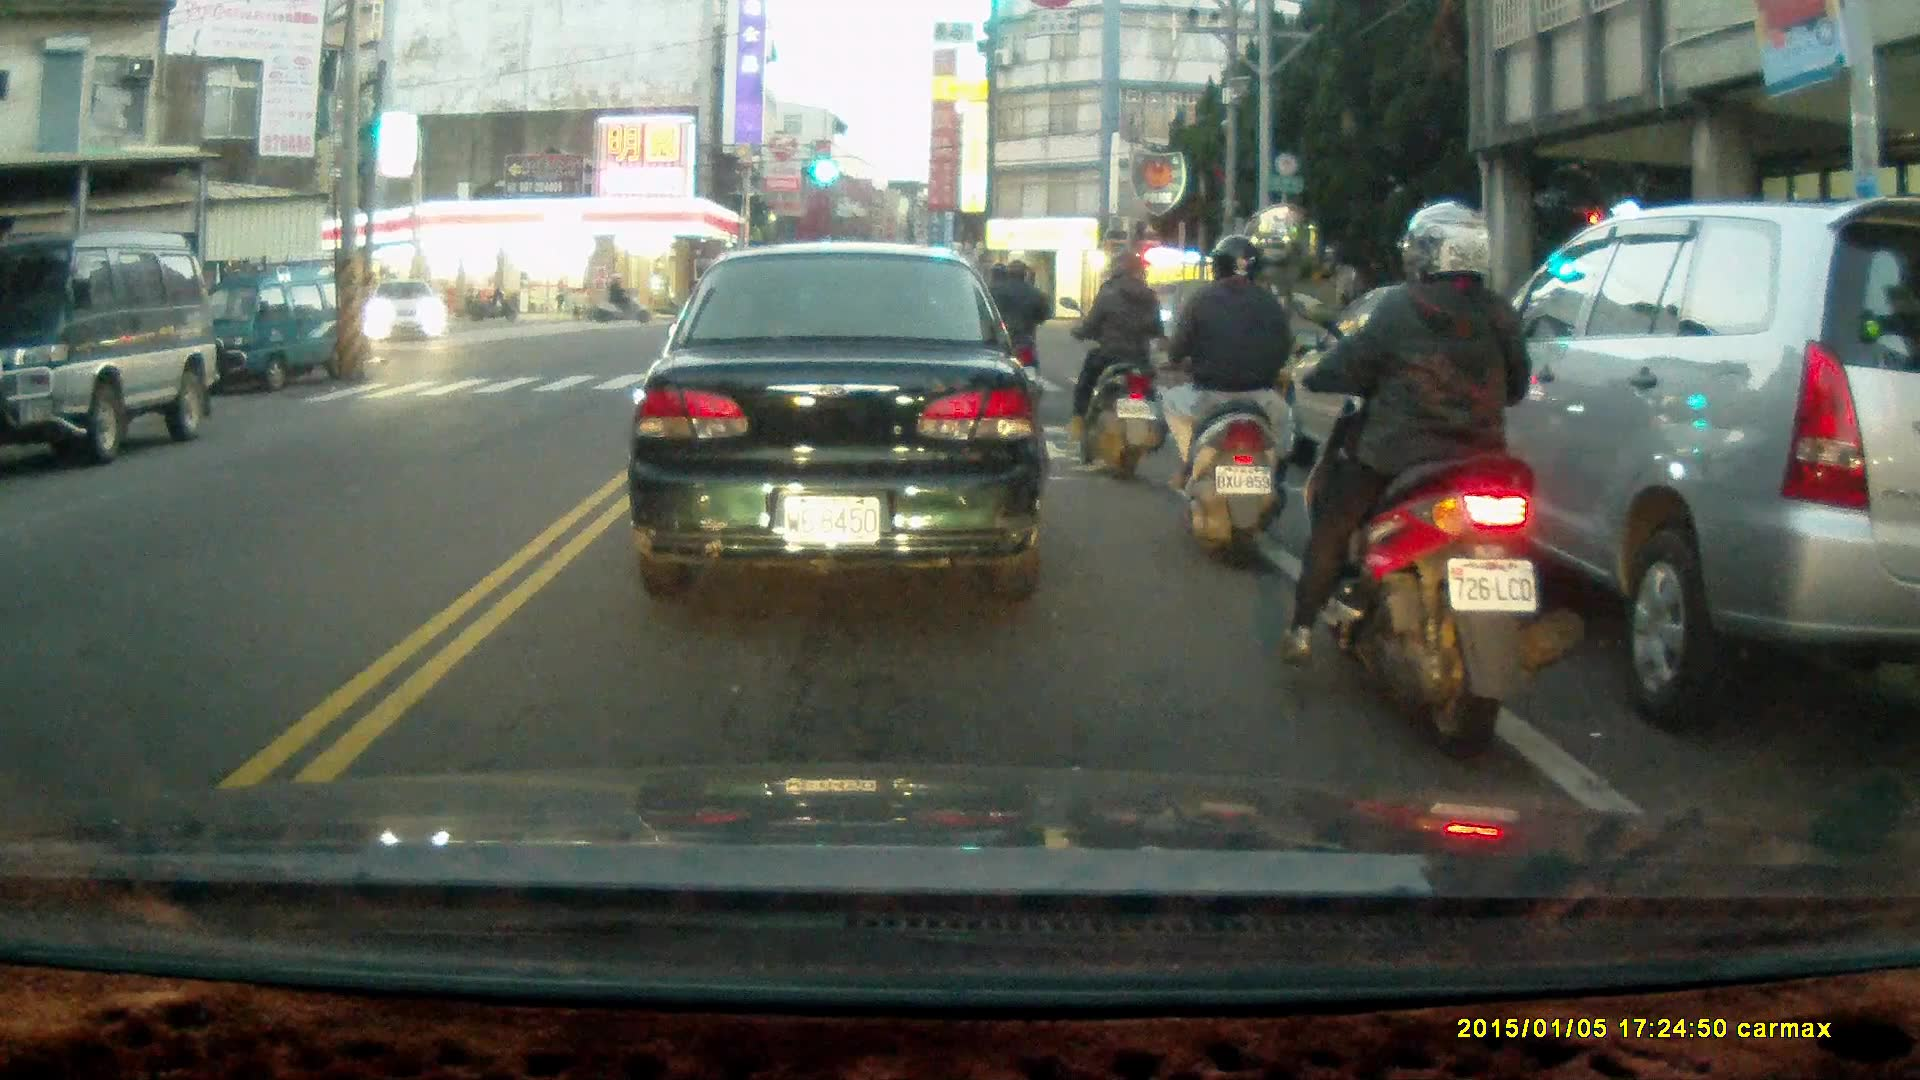rider: (1279, 201, 1561, 750), (1125, 225, 1290, 555), (1060, 257, 1165, 486), (981, 259, 1047, 416), (590, 279, 645, 323)
vehicle: (1400, 195, 1920, 727), (627, 239, 1050, 604), (1, 234, 213, 458), (183, 262, 364, 398), (370, 277, 450, 343)
